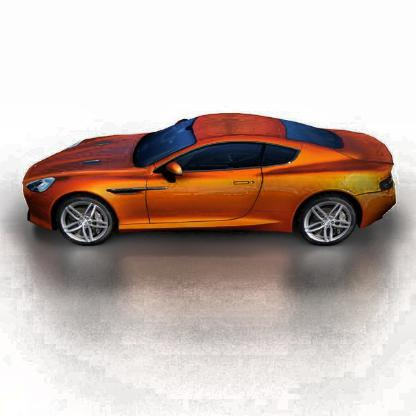Aston Martin Virage Coupe 2012: (16, 111, 402, 267)
